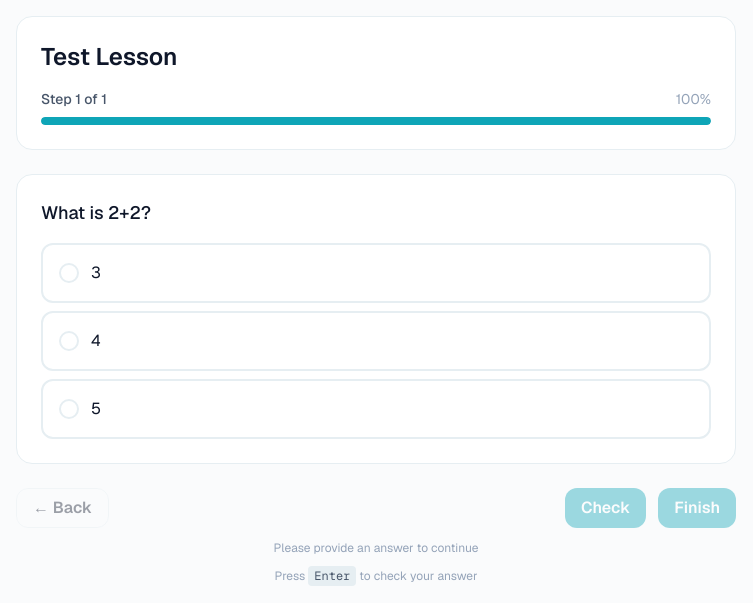
Scenario: LessonPlayer › UX Rules › should disable Check button until user provides answer for single_choice
The width and height of the screenshot is (753, 603).
Expected: the button "Check" is disabled, [565,488,646,528]
Note: Select an option
Click the button "4": (69, 341) [41,311,711,371]
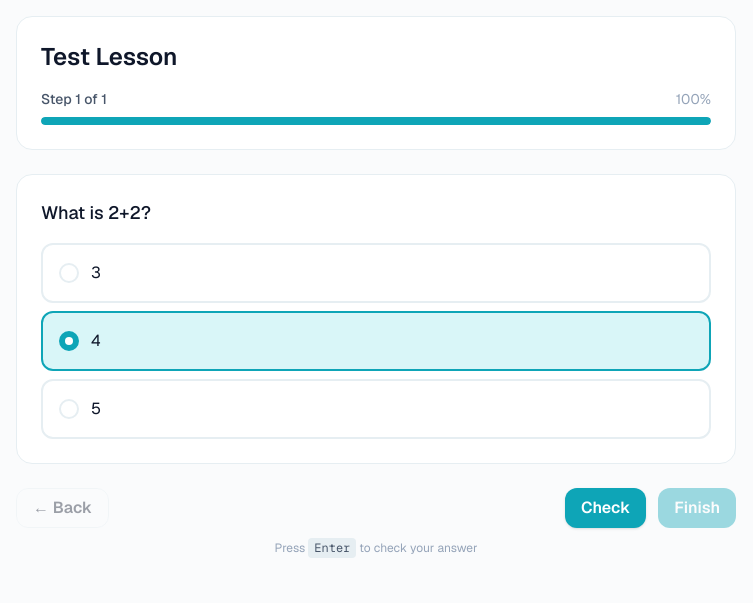
Expected: the button "Check" is enabled, [565,488,646,528]
